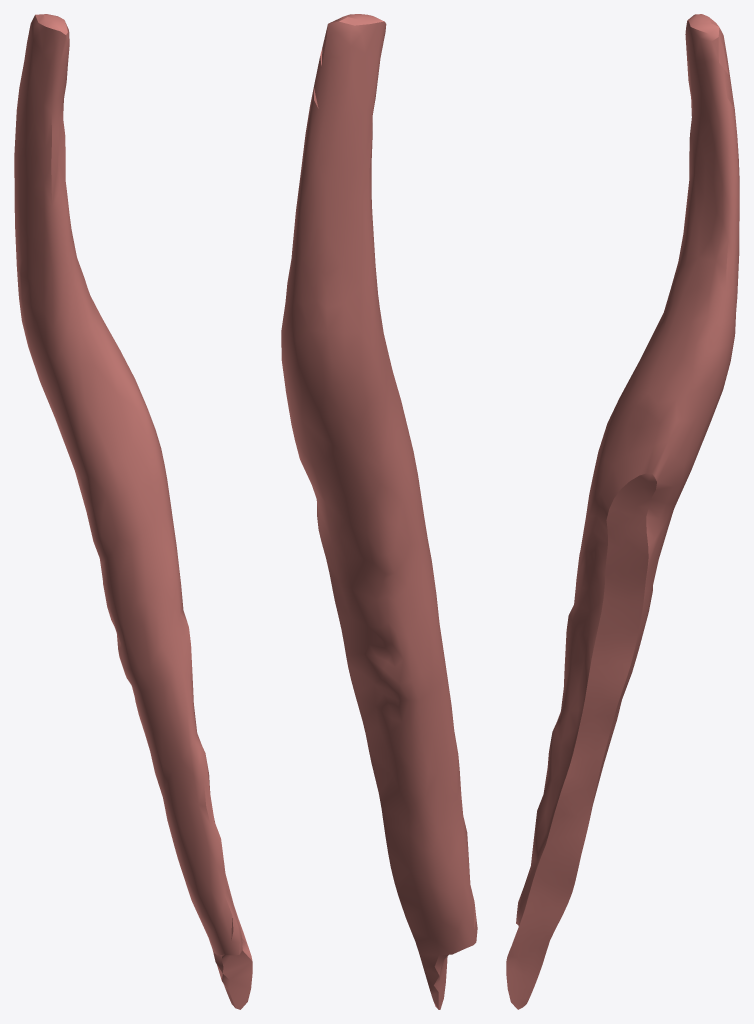
Rendered from fma298172_mm1860.glb.
3 views of the same model, side by side, from view 1: azimuth 90°, elevation 25°; view 2: azimuth 150°, elevation 25°; view 3: azimuth 270°, elevation 25° (orthographic). The views are drawn at different scales.
Parts seen in each view (by area): view 1: FMA298172_MM1860; view 2: FMA298172_MM1860; view 3: FMA298172_MM1860.
Boxes of the visible parts, <box> form: FMA298172_MM1860: <box>14,14,252,1009</box>; FMA298172_MM1860: <box>281,14,477,1009</box>; FMA298172_MM1860: <box>506,14,739,1009</box>.
Size of the model in its own units: 0.0154 by 0.1408 by 0.0304.
